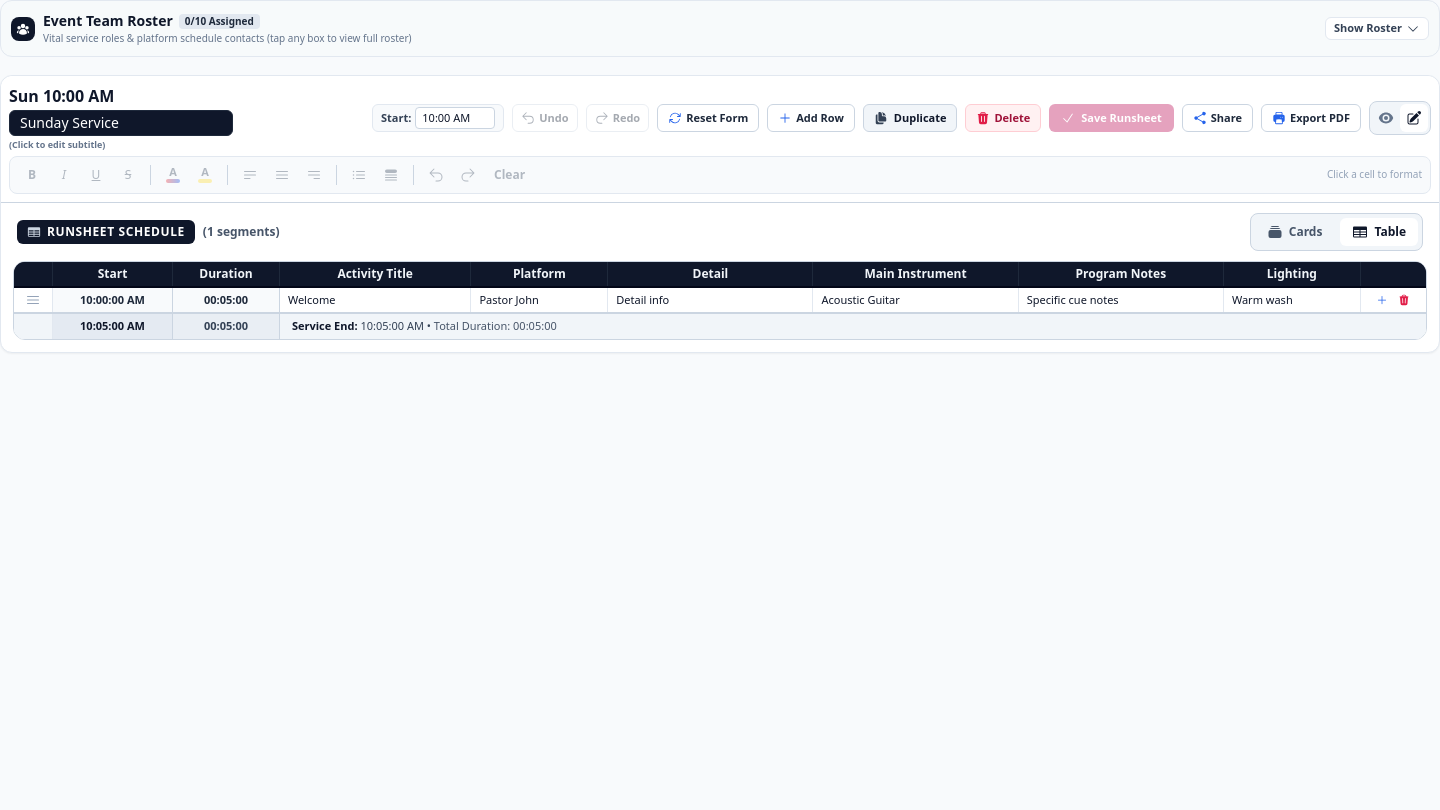
RunsheetTableEditor layout & column ordering › defaults roster collapsed state to true (hidden) and allows toggling with localStorage persistence
// Toggle expand
Click the button "Show Roster". click: (1377, 29)
box: [1325, 17, 1429, 40]
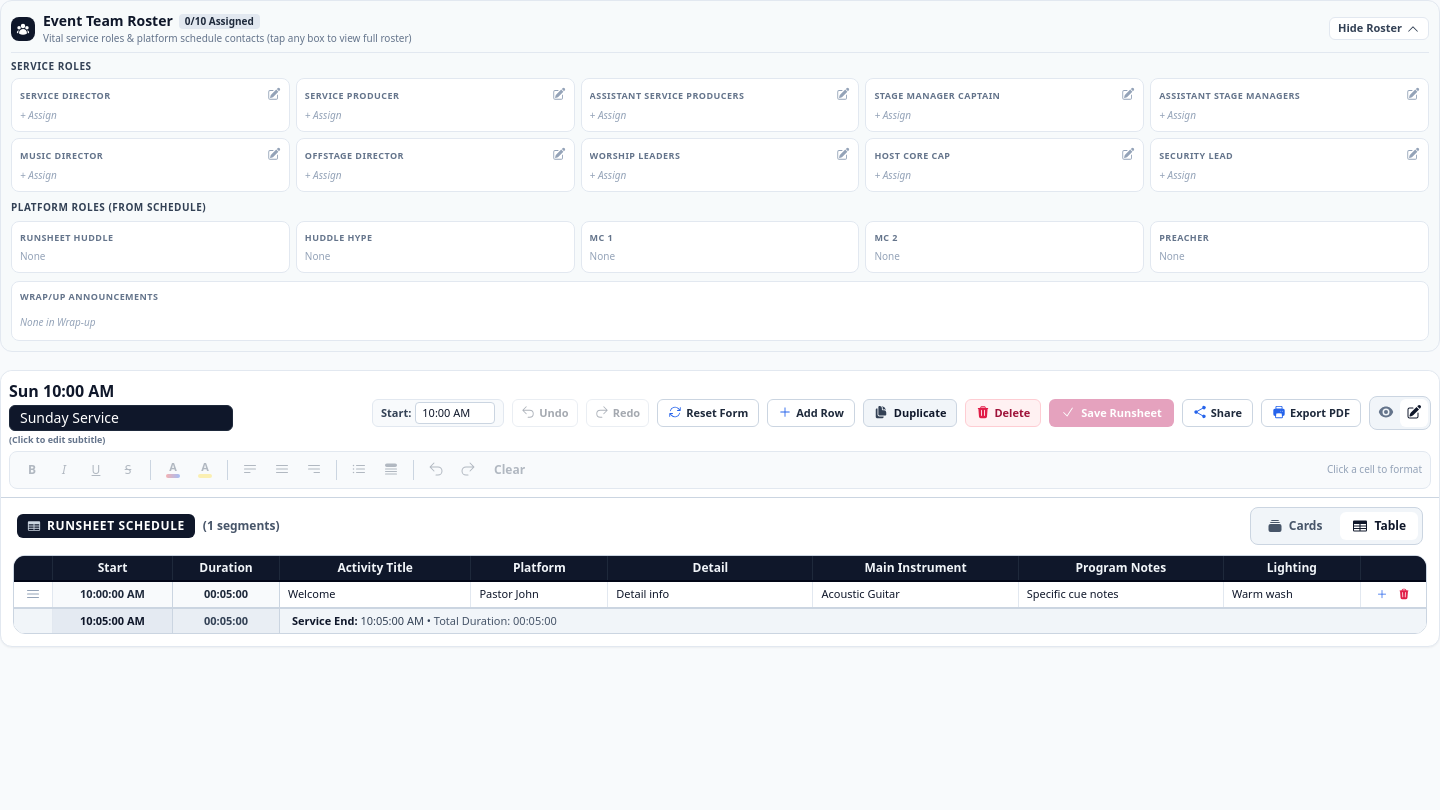
Result: the button "Hide Roster" is shown
Result: the text "Service Roles" is shown at [11, 59, 92, 73]
// Toggle collapse
Click the button "Hide Roster". click: (1379, 29)
box: [1329, 17, 1429, 40]
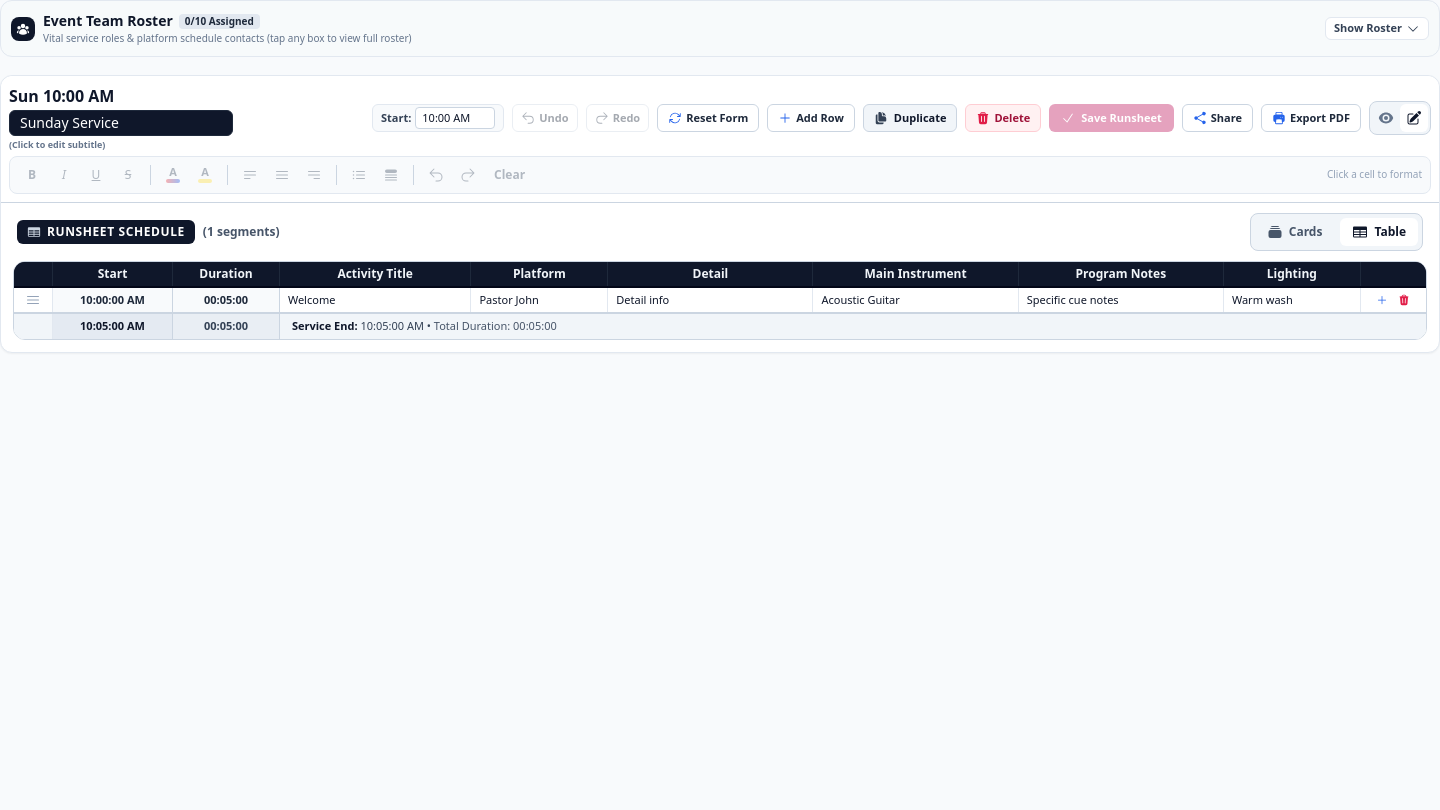
Result: the button "Show Roster" is shown at [1325, 17, 1429, 40]
